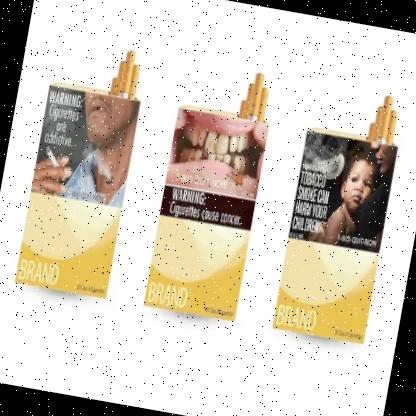bungkus rokok: (3, 29, 160, 310), (134, 52, 286, 335), (268, 70, 413, 349)
